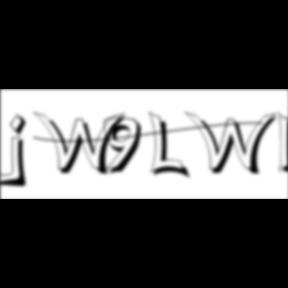9: (104, 117, 148, 177)
L: (149, 110, 193, 182)
W: (34, 110, 132, 178), (185, 110, 283, 178)
j: (7, 113, 34, 191)
